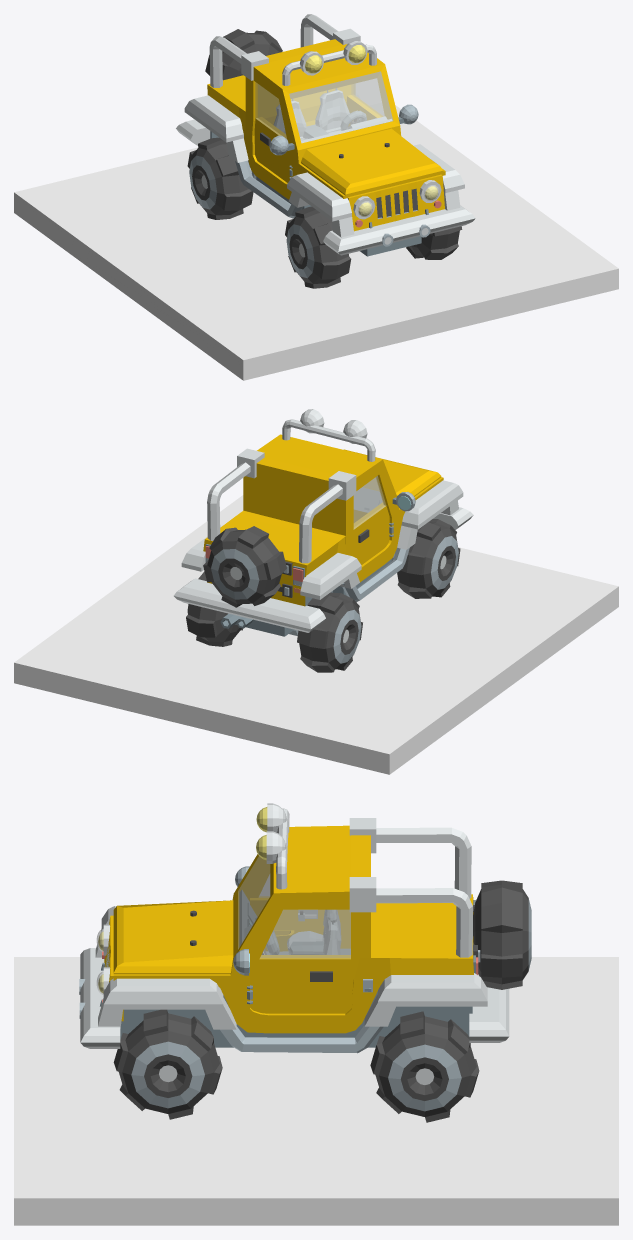
3 renders of one model, top to bottom at view 1: azimuth 30°, elevation 25°; view 2: azimuth 150°, elevation 25°; view 3: azimuth 270°, elevation 25°, orthographic. The views are drawn at different scales.
Parts seen in each view (by area): view 1: mesh2133652563, mesh1085046267; view 2: mesh2133652563, mesh1085046267; view 3: mesh2133652563, mesh1085046267.
Part boxes in pixels (left/top/right/bottom): mesh2133652563: left=14, top=105, right=618, bottom=380; mesh1085046267: left=176, top=14, right=475, bottom=288; mesh2133652563: left=14, top=495, right=618, bottom=774; mesh1085046267: left=173, top=409, right=473, bottom=672; mesh2133652563: left=14, top=957, right=618, bottom=1225; mesh1085046267: left=79, top=803, right=531, bottom=1122.
Size of the model in its own units: 9120 by 5033 by 9650.
